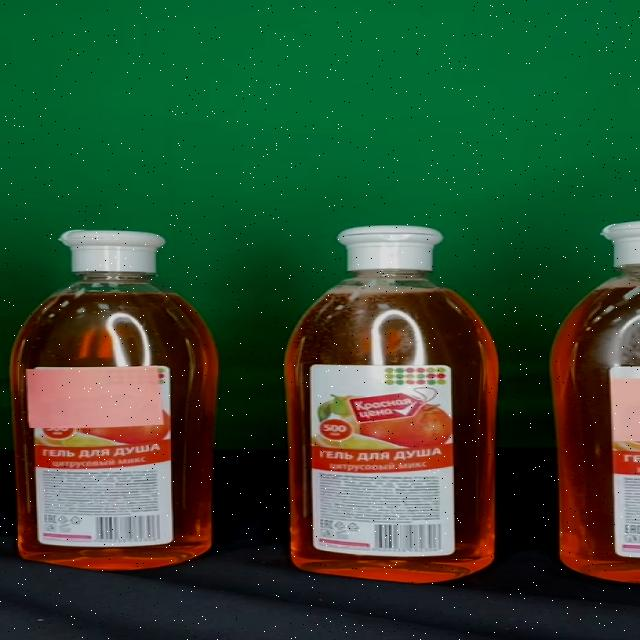Bottle: (284, 225, 498, 584), (12, 230, 220, 571)
Cap: (60, 230, 165, 274), (337, 226, 442, 269)
